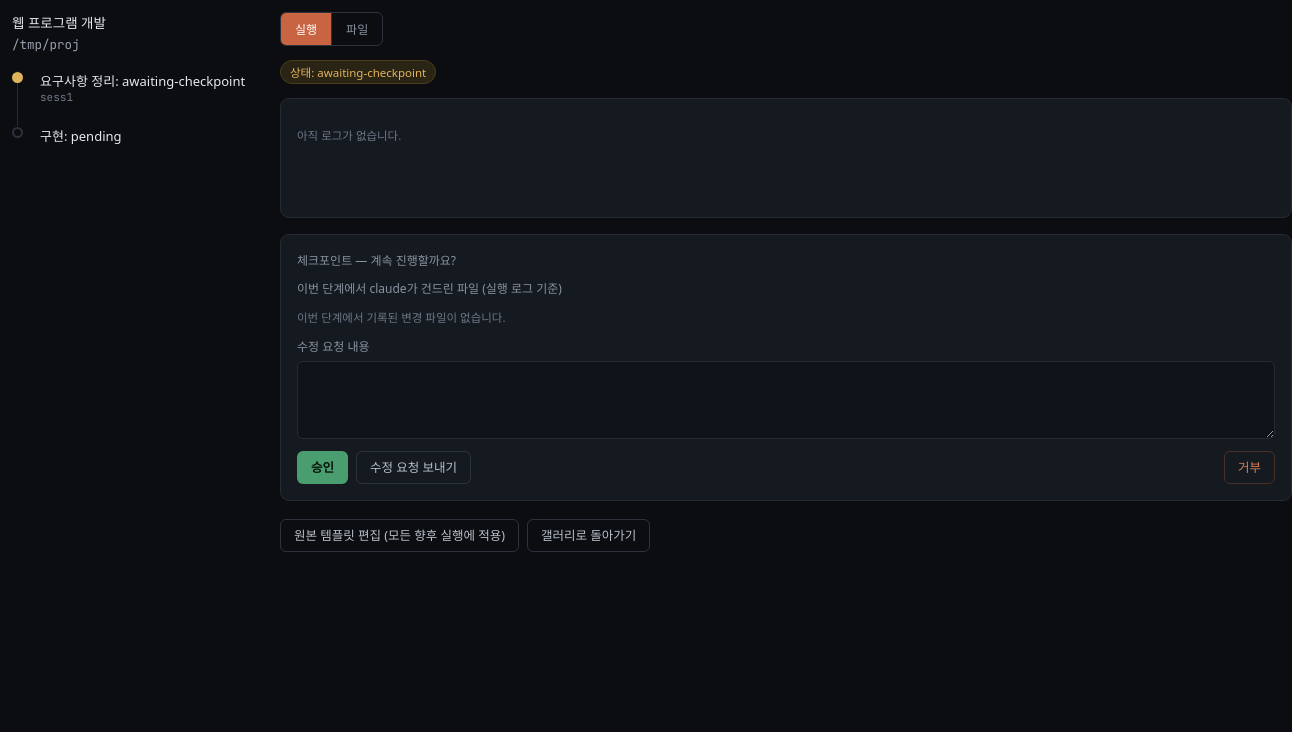
Test: PipelineRun › lists the target dir root when the 파일 tab is selected
This screenshot has width=1292, height=732.
Click the tab "파일": [357, 29] box [332,13,382,45]
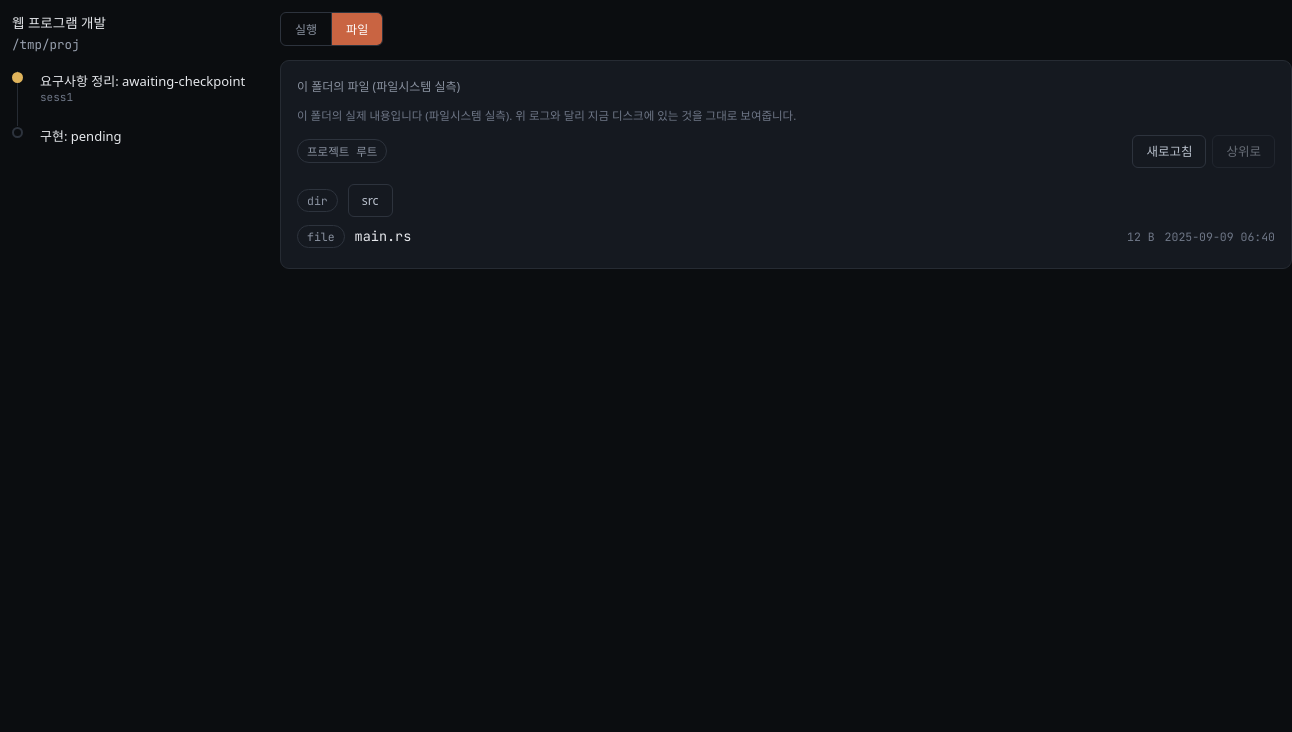
Expected: the button "src" is shown, [348,184,393,216]
Expected: the text "main.rs" is shown, [355,227,411,245]
